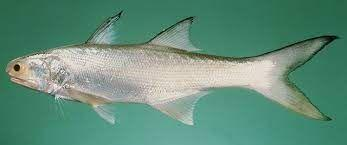Fourfinger Threadfish: (7, 11, 339, 123)
